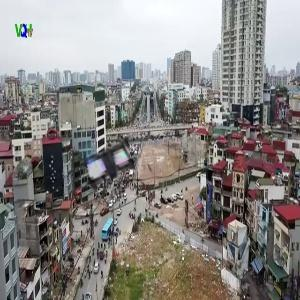drone: (66, 124, 157, 215)
